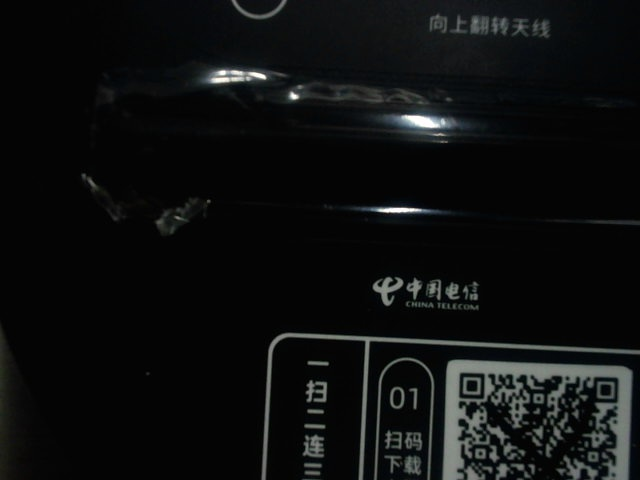AB_ChinaTelecom: (364, 270, 491, 316)
